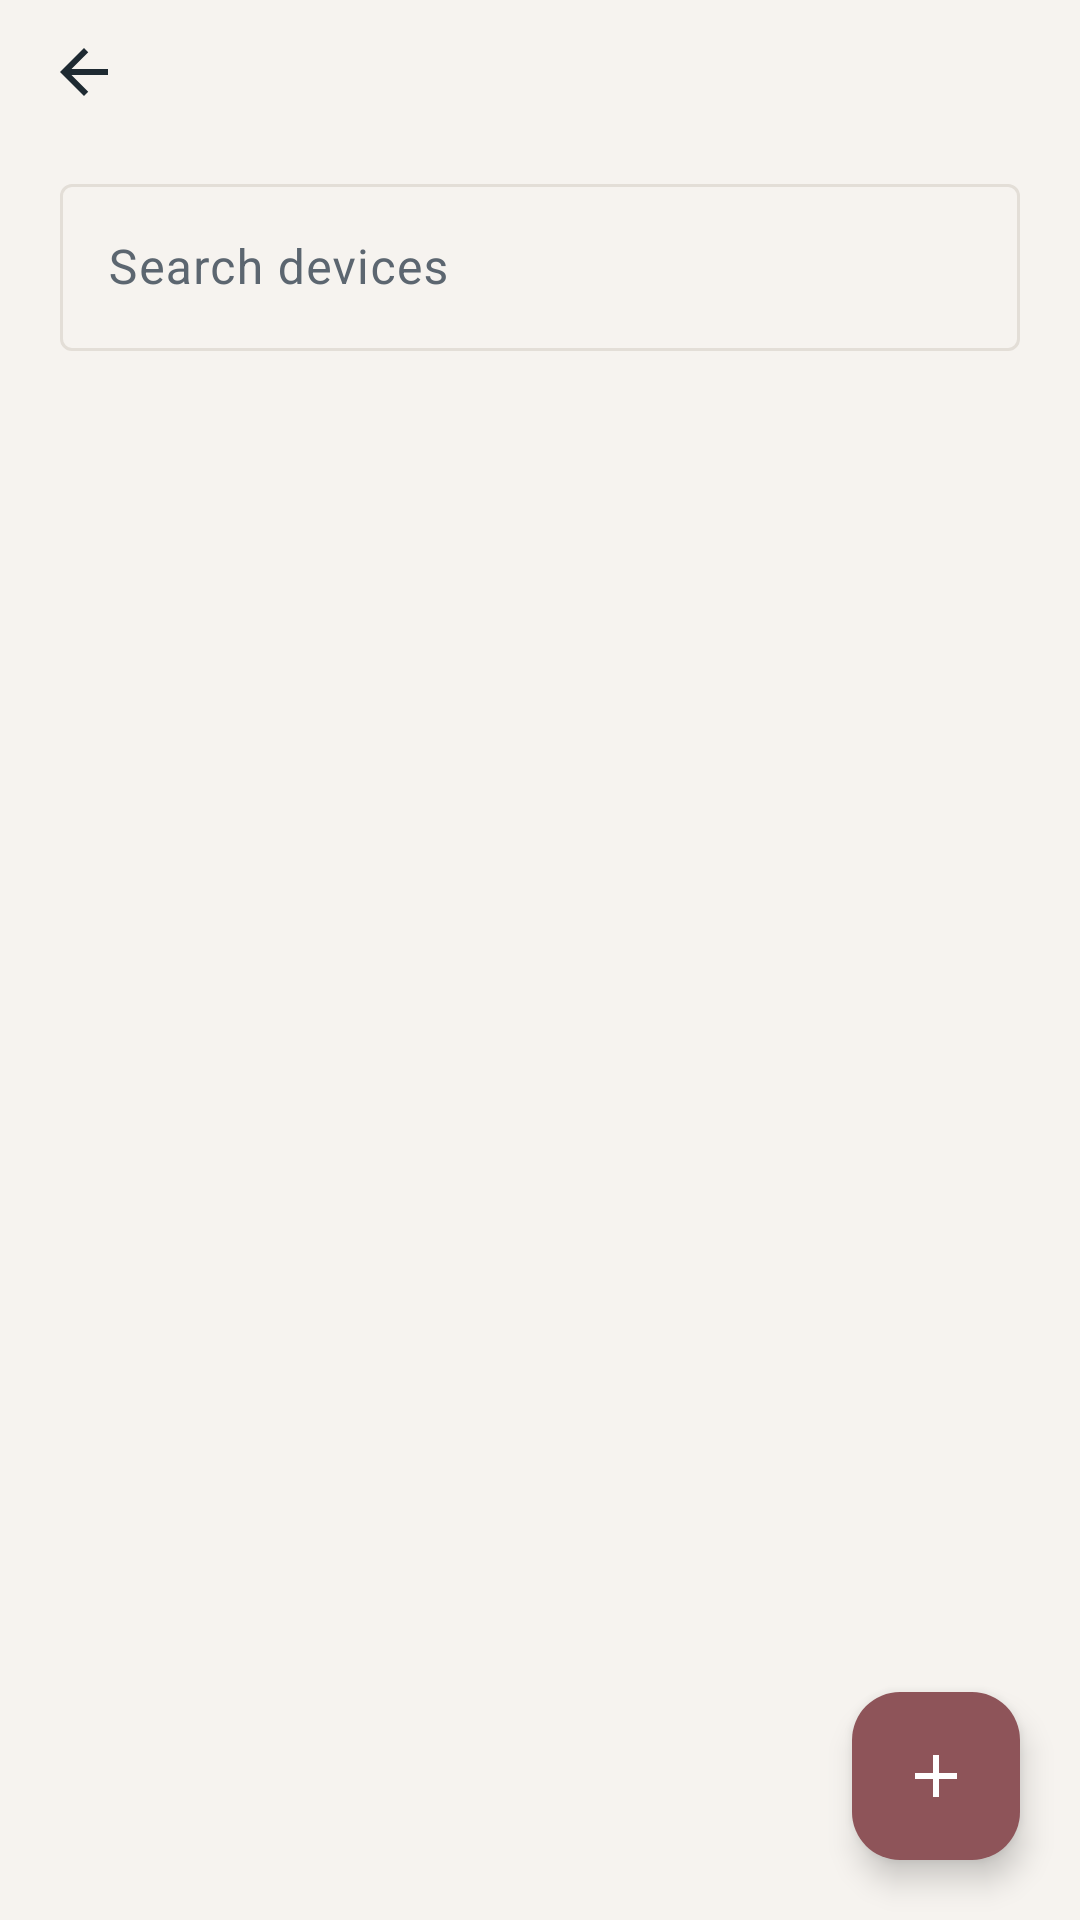

Icons on this 1080*1920 Android screen, each with its box as (x1, y1, x2, y2):
Add device: (852, 1692, 1020, 1860)
Back: (60, 48, 108, 96)
